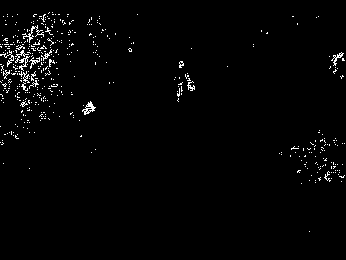person: (172, 60, 196, 106)
